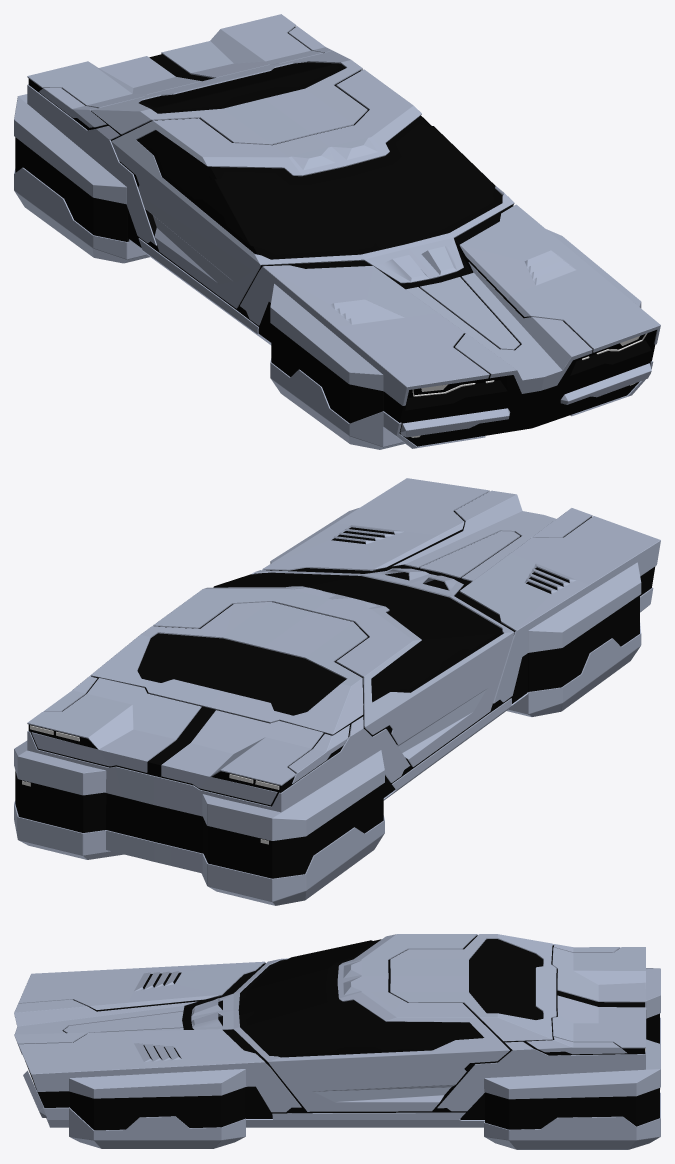
Rendered from sci-fi_vehicle_006_01.fbx.
3 views of the same model, one above another, from view 1: azimuth 30°, elevation 25°; view 2: azimuth 150°, elevation 25°; view 3: azimuth 270°, elevation 25° (orthographic). The views are drawn at different scales.
Visible parts, largest first — view 1: Cube.001, Cube.005, Cube, Cube.006, Cube.008, Cube.004, Cube.003, Cube.002, Cube.007; view 2: Cube.001, Cube, Cube.005, Cube.008, Cube.004, Cube.006, Cube.003, Cube.007, Cube.002; view 3: Cube.001, Cube.005, Cube, Cube.006, Cube.008, Cube.004, Cube.003, Cube.002, Cube.007.
Part boxes in pixels (box(x1,y1,x2,y2)): Cube.001: box(27, 14, 651, 437); Cube.005: box(39, 26, 660, 405); Cube: box(15, 27, 656, 446); Cube.006: box(143, 115, 495, 254); Cube.008: box(27, 84, 653, 448); Cube.004: box(14, 94, 126, 204); Cube.003: box(14, 167, 149, 263); Cube.002: box(270, 358, 404, 449); Cube.007: box(143, 62, 340, 111); Cube.001: box(27, 490, 641, 805); Cube: box(15, 505, 655, 878); Cube.005: box(43, 478, 660, 783); Cube.008: box(27, 587, 653, 873); Cube.004: box(14, 740, 384, 840); Cube.006: box(213, 573, 495, 696); Cube.003: box(14, 801, 384, 905); Cube.007: box(142, 635, 340, 712); Cube.002: box(507, 623, 641, 716); Cube.001: box(14, 934, 646, 1118); Cube.005: box(18, 944, 626, 1112); Cube: box(25, 936, 659, 1130); Cube.006: box(246, 940, 476, 1053); Cube.008: box(43, 1018, 646, 1127); Cube.004: box(484, 968, 660, 1099); Cube.003: box(484, 1017, 660, 1149); Cube.002: box(69, 1107, 245, 1148); Cube.007: box(474, 940, 539, 1018).
Bounding box in the file's own units: 278 × 134 × 659.
